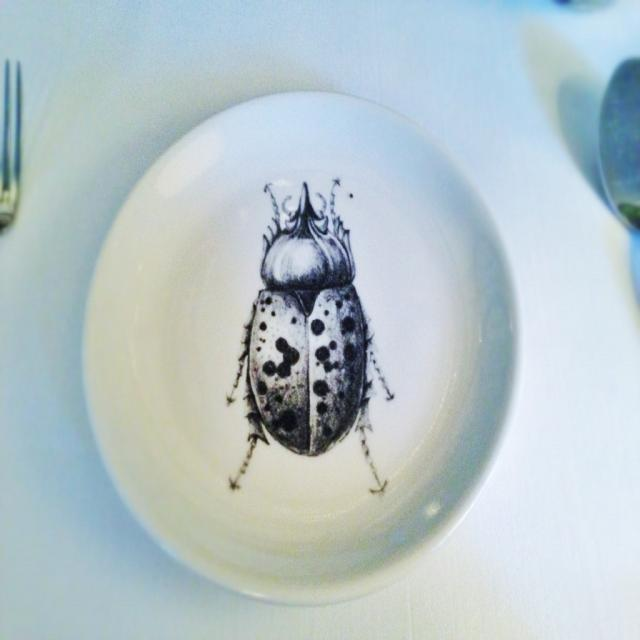non-organic waste: (82, 80, 525, 617)
